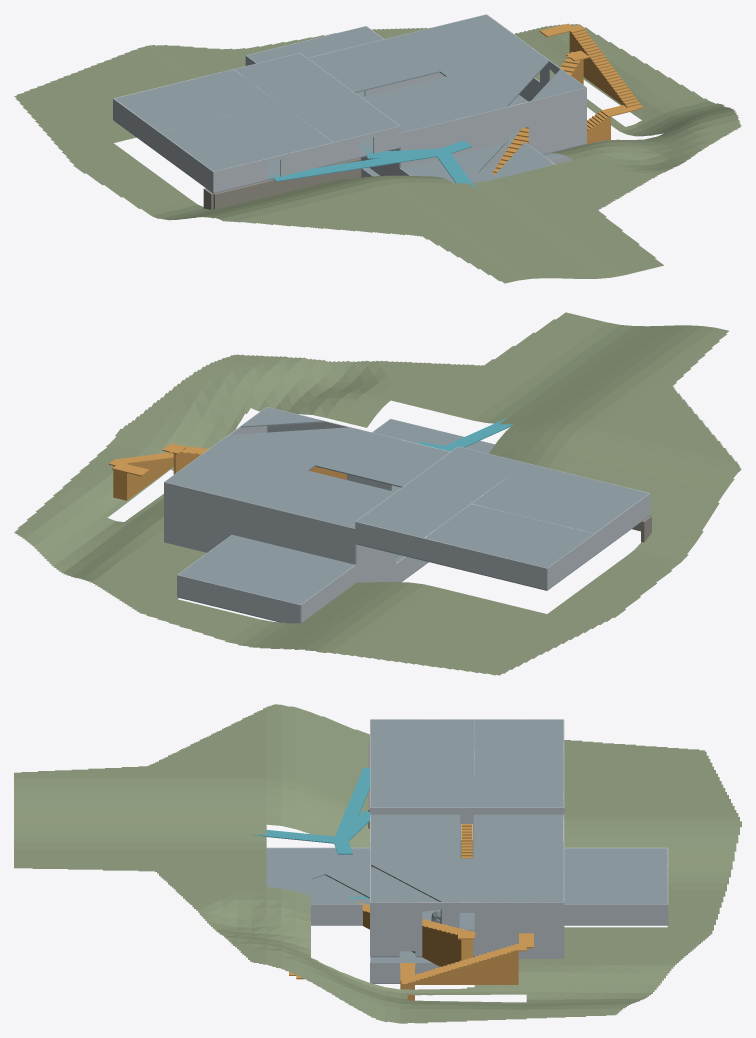
The model's file is bayed-stairs.glb.
3 renders of one model, top to bottom at view 1: azimuth 30°, elevation 25°; view 2: azimuth 150°, elevation 25°; view 3: azimuth 270°, elevation 25°, orthographic. The views are drawn at different scales.
Visible parts, largest first — view 1: Saved editor occupied-room terrain WLD-09, Ceiling cap west-stair, Ceiling cap control, Opened stair shell Wall turbine S.001, Ceiling cap office, Restored ceiling-cap turbine 0 region0, Ceiling cap turbine.006, Ceiling cap turbine.003, Ceiling cap turbine, Ceiling cap plant, Ceiling cap turbine.004, Bayed shell Wall turbine S (+15 smaller); view 2: Saved editor occupied-room terrain WLD-09, Ceiling cap west-stair, Ceiling cap control, Ceiling cap plant, Wall turbine N.001, Ceiling cap office, Restored ceiling-cap turbine 0 region0, Ceiling cap turbine.006, Wall office N, Wall plant N, Ceiling cap turbine, Ceiling cap turbine.003 (+12 smaller); view 3: Saved editor occupied-room terrain WLD-09, Opened stair shell Wall turbine E, Ceiling cap west-stair, Ceiling cap control, Ceiling cap plant, Ceiling cap office, Restored ceiling-cap turbine 0 region0, Ceiling cap turbine.006, Ceiling cap turbine, Ceiling cap turbine.003, Wall plant E, Ceiling cap turbine.004 (+13 smaller).
Boxes of the visible parts, x1,y1,x2,y2 form: Saved editor occupied-room terrain WLD-09: [14, 24, 741, 283]; Ceiling cap west-stair: [234, 53, 399, 142]; Ceiling cap control: [160, 103, 332, 171]; Opened stair shell Wall turbine S.001: [465, 88, 586, 168]; Ceiling cap office: [115, 69, 278, 131]; Restored ceiling-cap turbine 0 region0: [409, 54, 548, 119]; Ceiling cap turbine.006: [394, 14, 531, 70]; Ceiling cap turbine.003: [362, 86, 454, 132]; Ceiling cap turbine: [308, 46, 400, 91]; Ceiling cap plant: [246, 26, 382, 63]; Ceiling cap turbine.004: [355, 37, 438, 79]; Bayed shell Wall turbine S: [400, 120, 455, 168]; Saved editor occupied-room terrain WLD-09: [14, 312, 741, 675]; Ceiling cap west-stair: [356, 446, 526, 537]; Ceiling cap control: [472, 463, 648, 533]; Ceiling cap plant: [178, 535, 354, 604]; Wall turbine N.001: [164, 482, 288, 550]; Ceiling cap office: [425, 504, 593, 567]; Restored ceiling-cap turbine 0 region0: [221, 427, 400, 475]; Ceiling cap turbine.006: [165, 448, 306, 505]; Wall office N: [424, 538, 547, 589]; Wall plant N: [177, 575, 300, 623]; Ceiling cap turbine: [300, 481, 394, 528]; Ceiling cap turbine.003: [355, 440, 449, 485]; Saved editor occupied-room terrain WLD-09: [14, 704, 741, 1023]; Opened stair shell Wall turbine E: [370, 902, 563, 956]; Ceiling cap west-stair: [370, 776, 563, 807]; Ceiling cap control: [370, 719, 474, 776]; Ceiling cap plant: [564, 848, 667, 904]; Ceiling cap office: [474, 719, 563, 776]; Restored ceiling-cap turbine 0 region0: [370, 840, 460, 902]; Ceiling cap turbine.006: [475, 858, 563, 902]; Ceiling cap turbine: [475, 814, 563, 840]; Ceiling cap turbine.003: [370, 814, 458, 840]; Wall plant E: [564, 904, 667, 924]; Ceiling cap turbine.004: [475, 840, 563, 858].
Size of the model in its own units: 85 by 13.16 by 98.
Materials: 31 (17 with a texture image).
